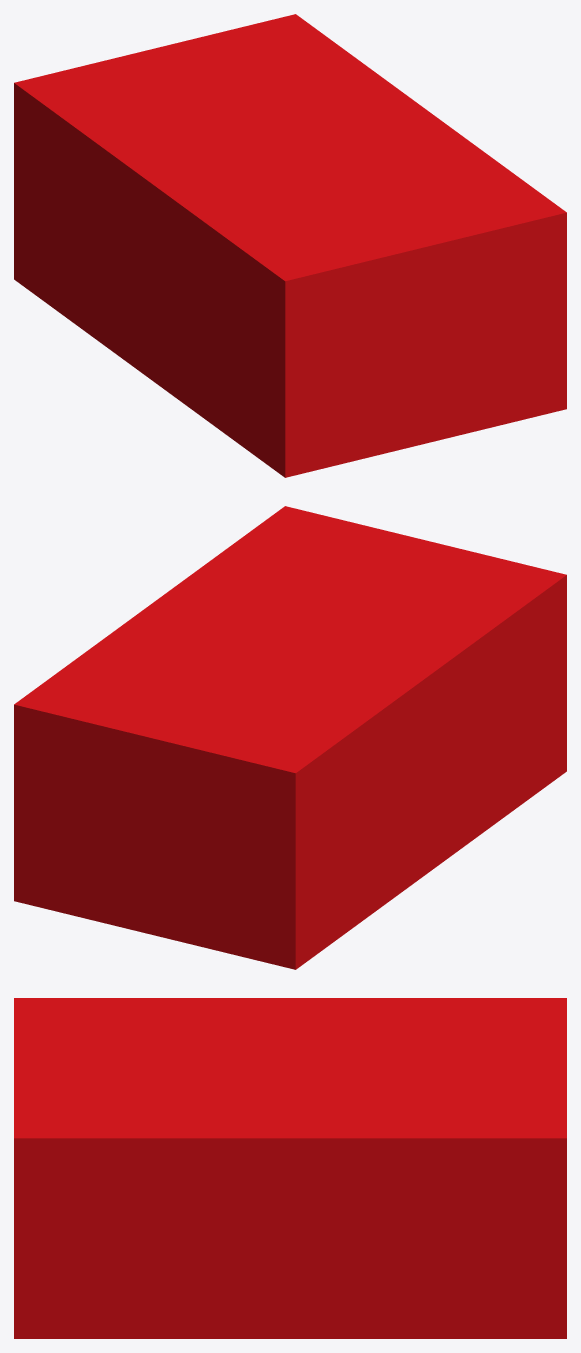
3 views of the same model, one above another, from view 1: azimuth 30°, elevation 25°; view 2: azimuth 150°, elevation 25°; view 3: azimuth 270°, elevation 25° (orthographic).
Visible parts, largest first — view 1: Cube.030; view 2: Cube.030; view 3: Cube.030.
Part boxes in pixels (bbox=[...]): Cube.030: bbox=[14, 14, 566, 477]; Cube.030: bbox=[14, 506, 566, 969]; Cube.030: bbox=[14, 998, 566, 1338].
Bounding box in the file's own units: 300 × 200 × 500.
